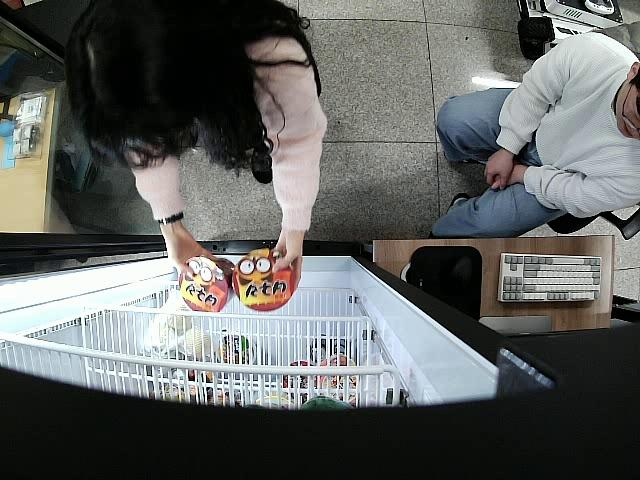00_hand: (166, 234, 219, 277), (271, 232, 302, 293)
05_nuguri_L: (233, 246, 297, 310), (179, 256, 241, 313)
